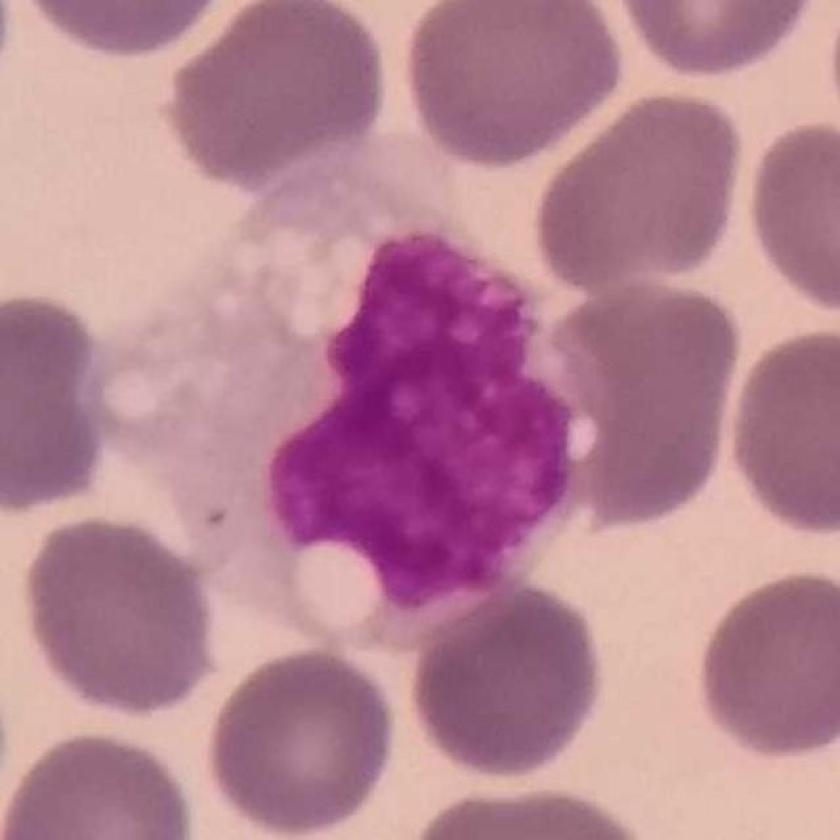monocyte: (77, 142, 618, 667)
